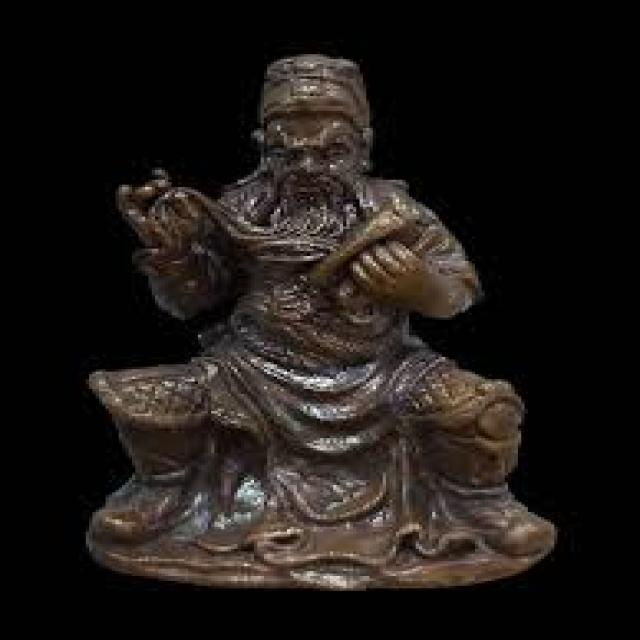Guan Yu: (165, 39, 449, 398)
